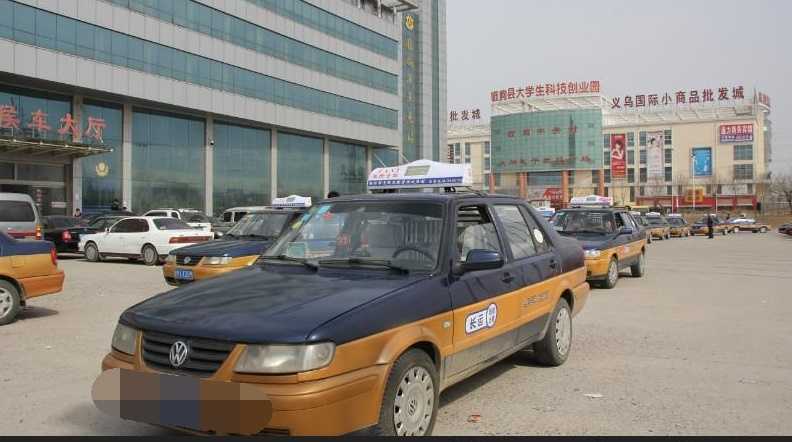taxi: (106, 175, 594, 442)
